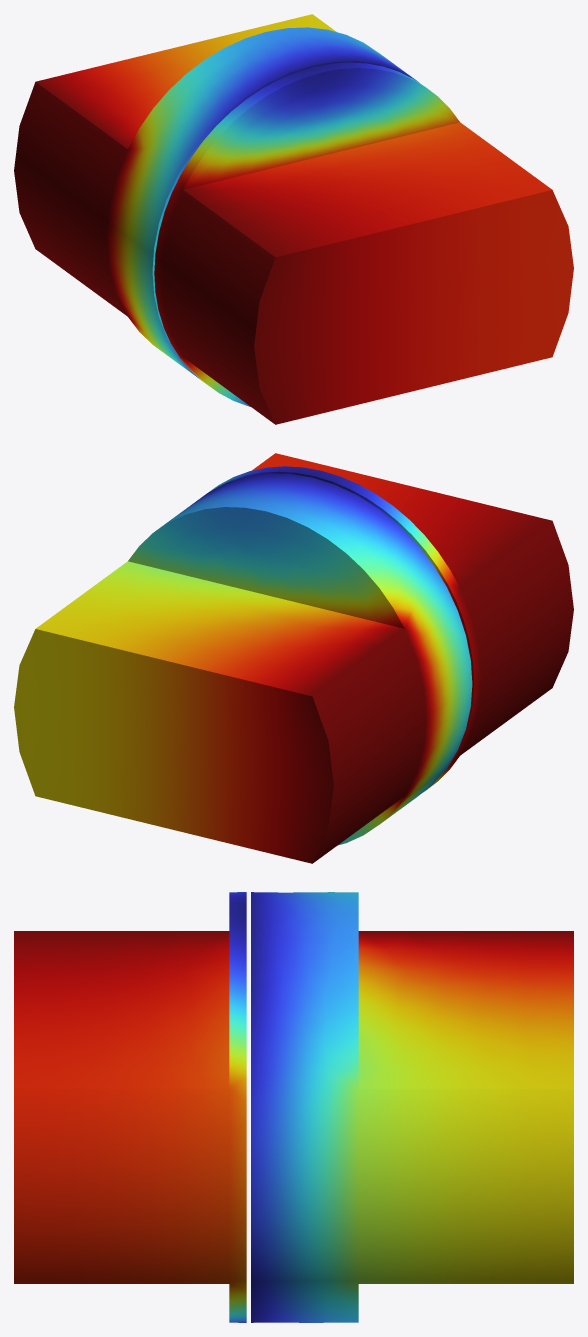
Rendered from PilaH2-O2_mh2-8.20_V-0.8.glb.
3 renders of one model, top to bottom at view 1: azimuth 30°, elevation 25°; view 2: azimuth 150°, elevation 25°; view 3: azimuth 270°, elevation 25°, orthographic. The views are drawn at different scales.
Bounding box in the file's own units: 0.001 × 0.001 × 0.0013.
2 materials, 2 textured.
